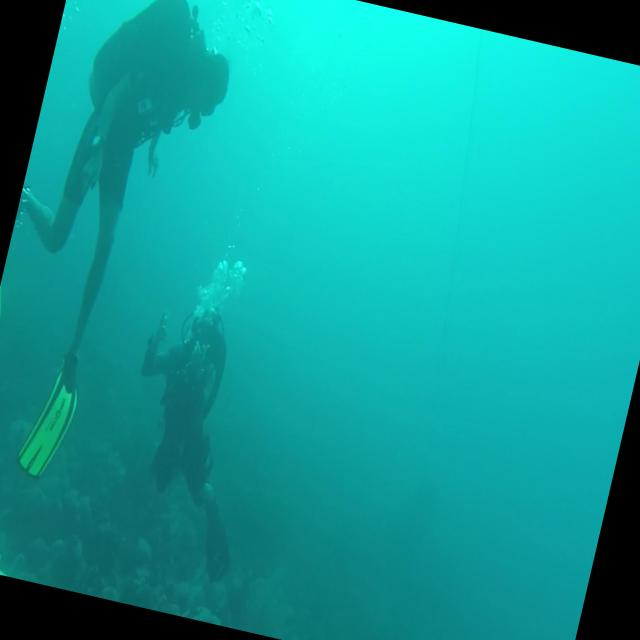human: (0, 0, 247, 499), (96, 289, 286, 586), (0, 184, 84, 571)
